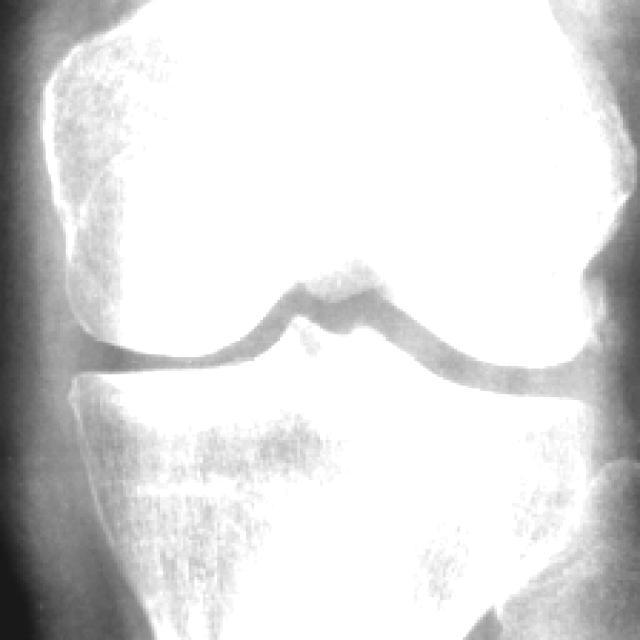femur: (46, 1, 635, 367)
tibia: (69, 317, 596, 640)
